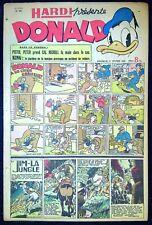paper: (5, 2, 149, 221)
